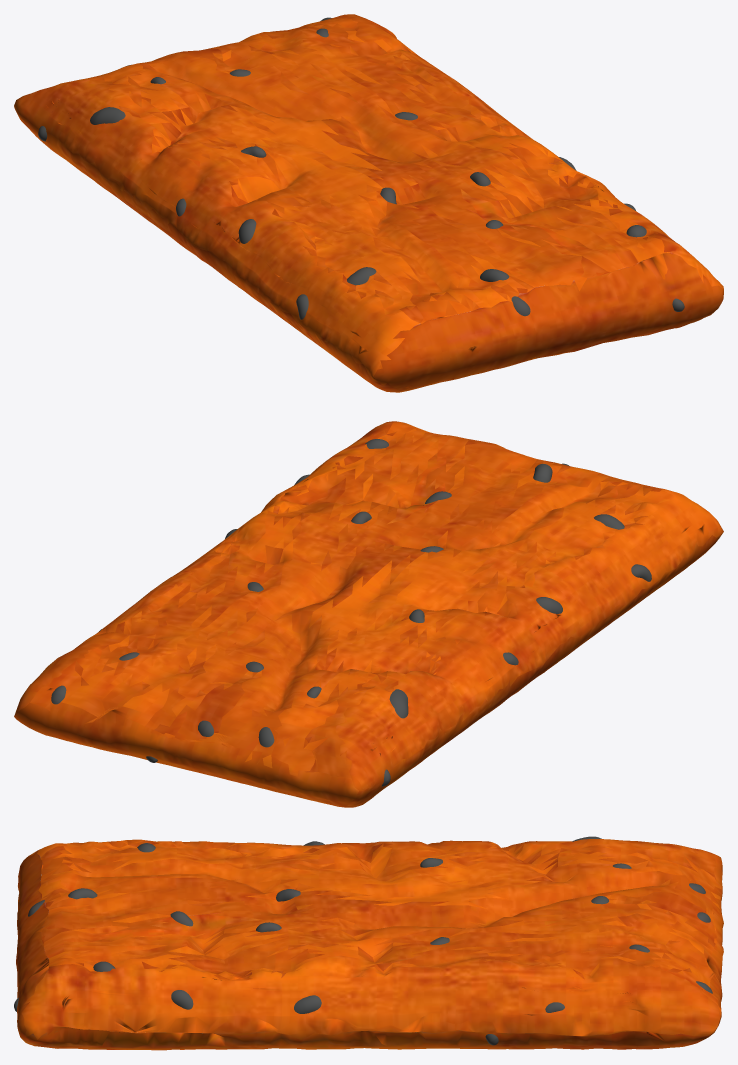
The model's file is pib.gltf.
The picture shows the model from 3 angles, top to bottom: view 1: azimuth 30°, elevation 25°; view 2: azimuth 150°, elevation 25°; view 3: azimuth 270°, elevation 25°; orthographic projection. The views are drawn at different scales.
Visible parts, largest first — view 1: PibHD (ConS), Frijos Og; view 2: PibHD (ConS), Frijos Og; view 3: PibHD (ConS), Frijos Og.
Boxes of the visible parts, x1,y1,x2,y2 form: PibHD (ConS): [14, 14, 723, 392]; Frijos Og: [38, 17, 684, 319]; PibHD (ConS): [14, 421, 723, 807]; Frijos Og: [51, 439, 651, 786]; PibHD (ConS): [16, 839, 723, 1050]; Frijos Og: [14, 836, 712, 1045].
Size of the model in its own units: 3.09 by 0.7818 by 5.57.
Materials: 2 (2 with a texture image).
